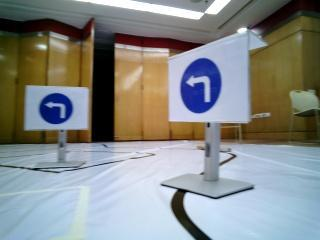left: (172, 56, 240, 121), (25, 89, 86, 126)
